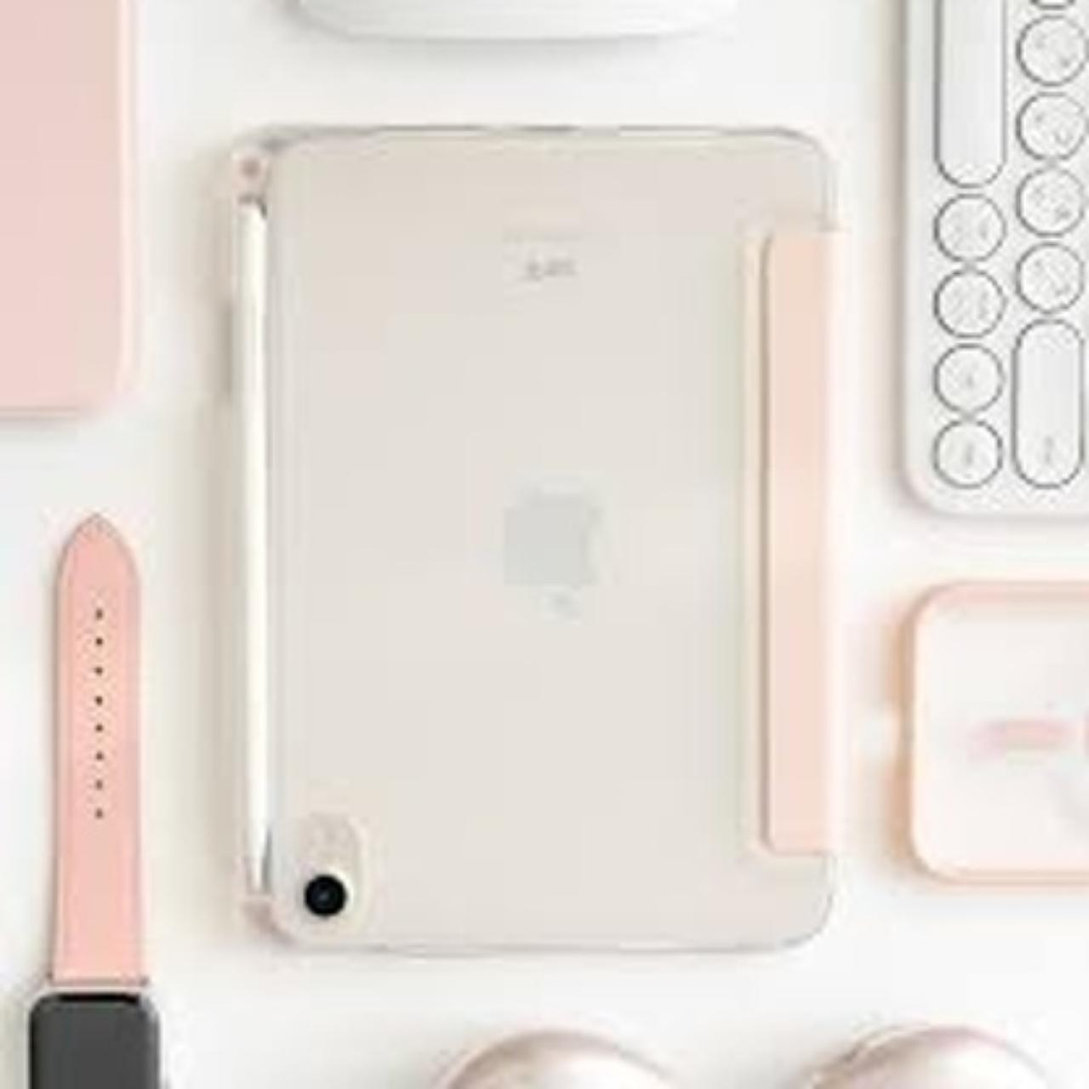Tablet_PC: (220, 110, 835, 974)
